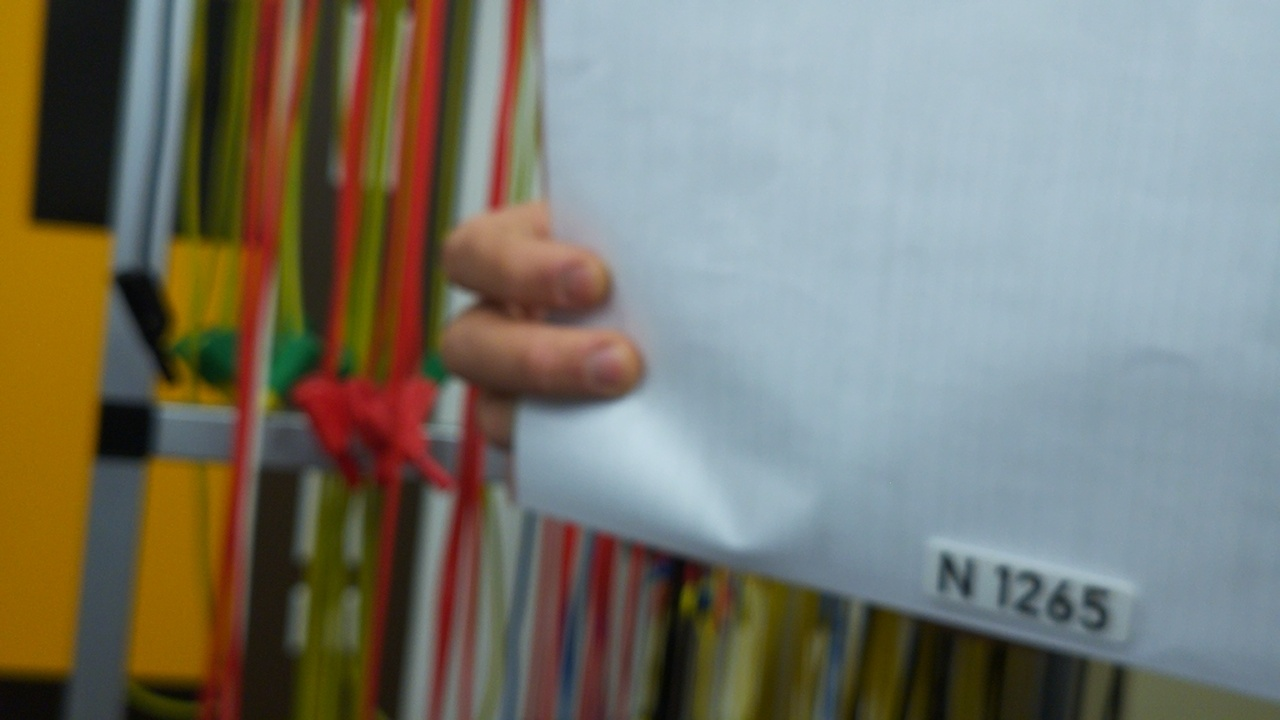license_plate: (917, 528, 1141, 651)
